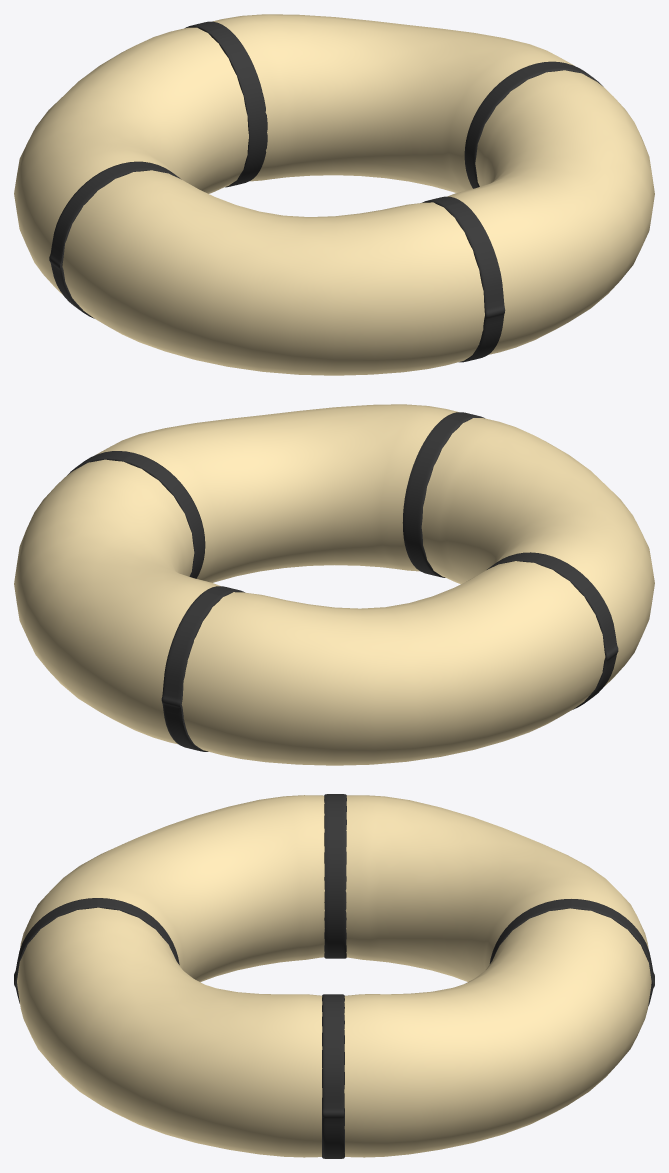
Rendered from lifebuoy.FBX.
The picture shows the model from 3 angles, top to bottom: view 1: azimuth 30°, elevation 25°; view 2: azimuth 150°, elevation 25°; view 3: azimuth 270°, elevation 25°; orthographic projection.
Visible parts, largest first — view 1: Torus01, Tube04, Tube05, Tube07, Tube06; view 2: Torus01, Tube05, Tube04, Tube07, Tube06; view 3: Torus01, Tube06, Tube07, Tube04, Tube05.
Boxes of the visible parts, left/top/right/bottom form: Torus01: left=14, top=14, right=654, bottom=375; Tube04: left=422, top=196, right=505, bottom=362; Tube05: left=185, top=21, right=267, bottom=187; Tube07: left=49, top=161, right=181, bottom=318; Tube06: left=464, top=61, right=603, bottom=188; Torus01: left=14, top=404, right=654, bottom=765; Tube05: left=161, top=586, right=244, bottom=751; Tube04: left=402, top=412, right=484, bottom=577; Tube07: left=487, top=552, right=618, bottom=709; Tube06: left=67, top=451, right=205, bottom=578; Torus01: left=17, top=795, right=651, bottom=1157; Tube06: left=322, top=994, right=344, bottom=1158; Tube07: left=324, top=794, right=346, bottom=958; Tube04: left=14, top=898, right=179, bottom=1003; Tube05: left=489, top=899, right=654, bottom=1005.
Size of the model in its own units: 447 by 115 by 447.
